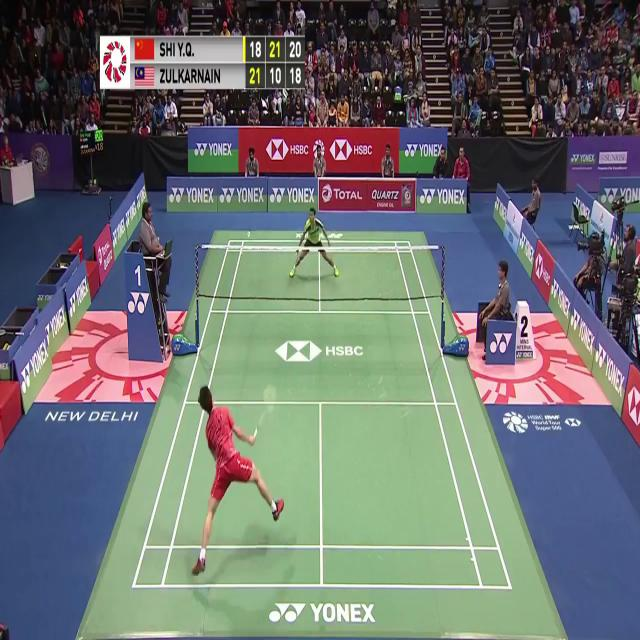Shuttlecock: (245, 230, 252, 241)
